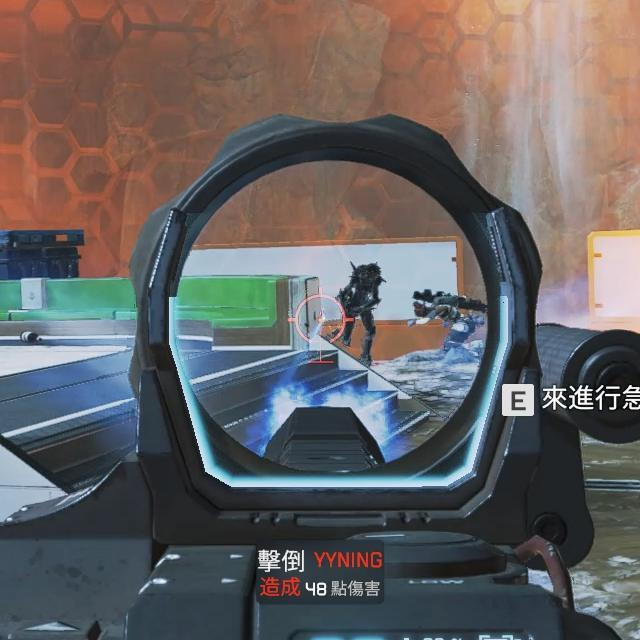avatar: (337, 259, 384, 368)
